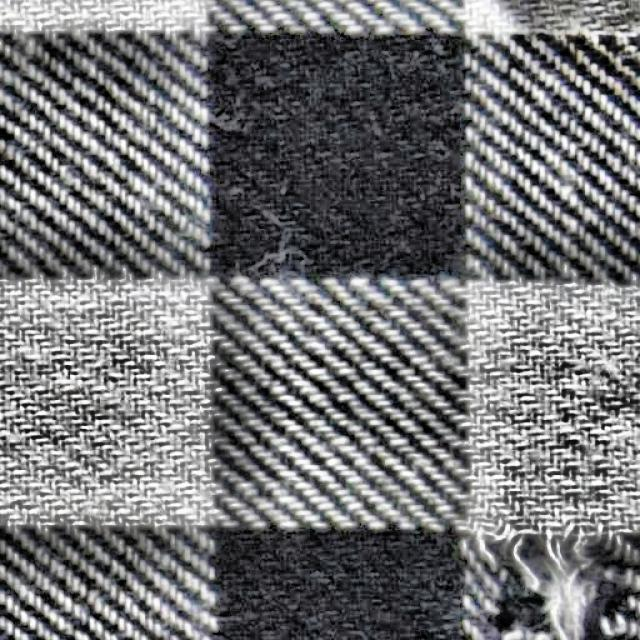cut: (414, 514, 639, 639)
